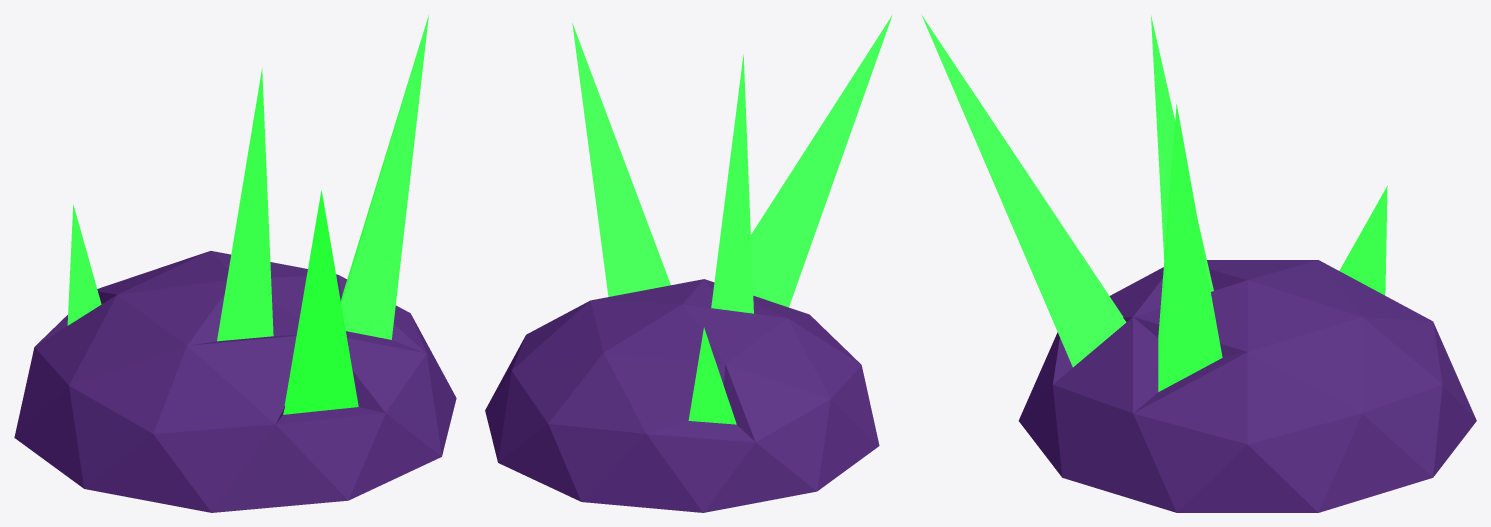
File: Alien_Decor.fbx
3 renders of one model, left to right at view 1: azimuth 30°, elevation 25°; view 2: azimuth 150°, elevation 25°; view 3: azimuth 270°, elevation 25°, orthographic. The views are drawn at different scales.
Parts seen in each view (by area): view 1: alien_item; view 2: alien_item; view 3: alien_item.
Part boxes in pixels (x1,y1,x2,y2): alien_item: [14, 15, 456, 512]; alien_item: [485, 15, 892, 512]; alien_item: [921, 14, 1476, 512].
Bounding box in the file's own units: 488 × 490 × 622.
